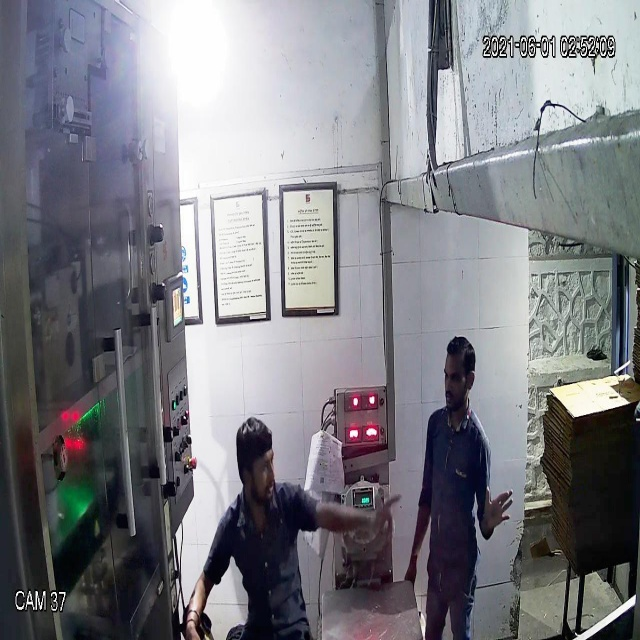Sin_gafas: (230, 449, 282, 484), (438, 361, 478, 392)
